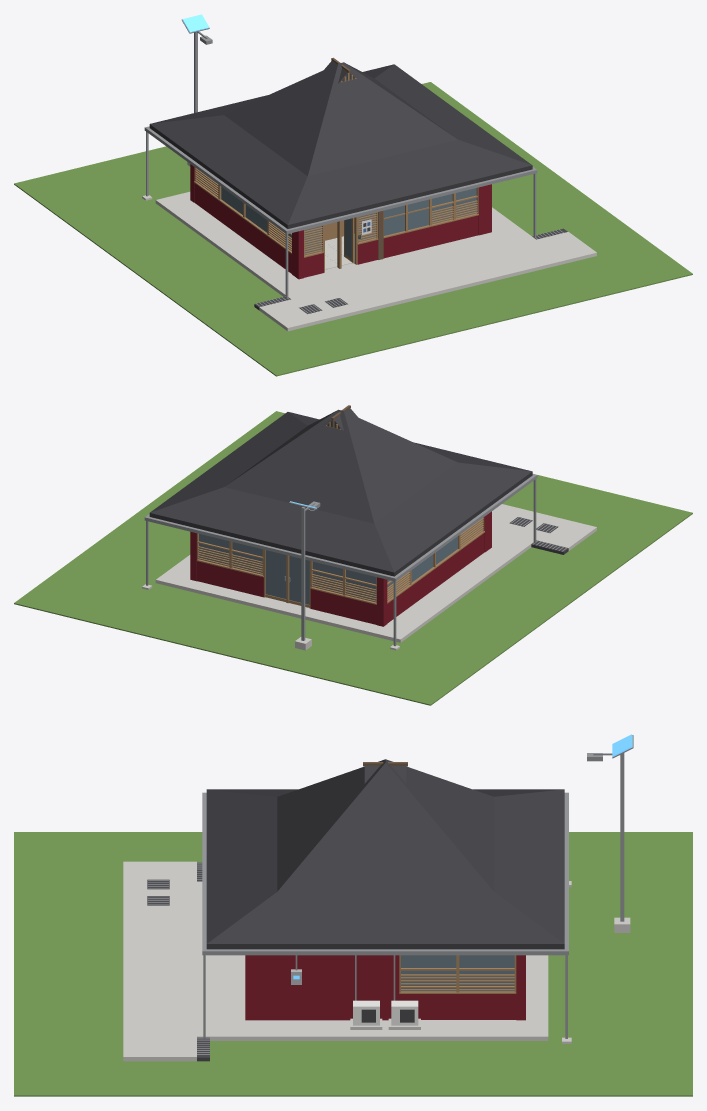
Rendered from oficina_tec.glb.
3 renders of one model, top to bottom at view 1: azimuth 30°, elevation 25°; view 2: azimuth 150°, elevation 25°; view 3: azimuth 270°, elevation 25°, orthographic. The views are drawn at different scales.
Parts seen in each view (by area): view 1: Oficina de Asesoría y Orientación Tecnológica; view 2: Oficina de Asesoría y Orientación Tecnológica; view 3: Oficina de Asesoría y Orientación Tecnológica.
Boxes of the visible parts, bbox=[...] form: Oficina de Asesoría y Orientación Tecnológica: bbox=[14, 14, 692, 376]; Oficina de Asesoría y Orientación Tecnológica: bbox=[14, 405, 692, 705]; Oficina de Asesoría y Orientación Tecnológica: bbox=[14, 734, 692, 1096].
Bounding box in the file's own units: 19.4 × 7.02 × 21.14.
